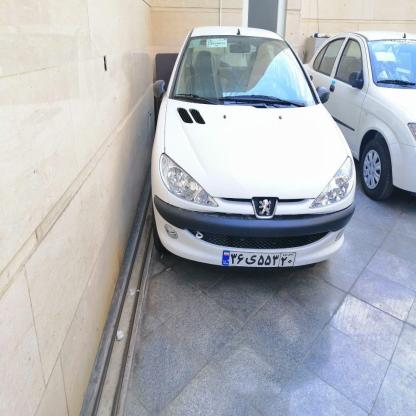Car: (151, 24, 360, 273), (299, 24, 416, 197)
